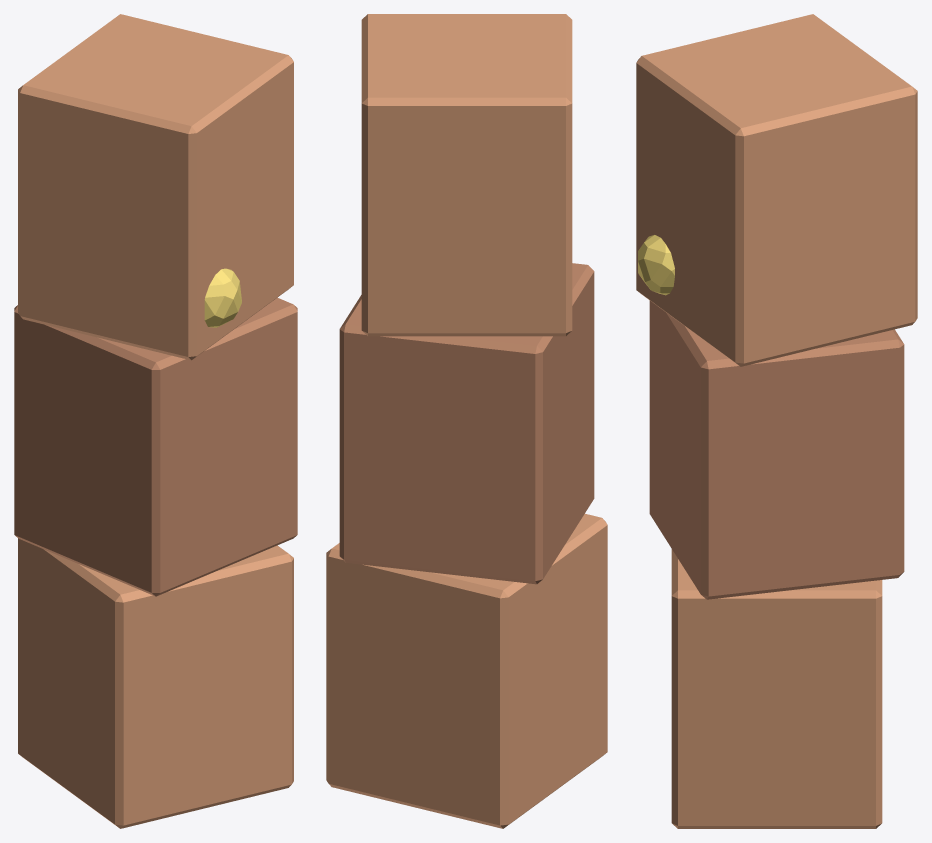
3 views of the same model, side by side, from view 1: azimuth 30°, elevation 25°; view 2: azimuth 150°, elevation 25°; view 3: azimuth 270°, elevation 25° (orthographic).
Parts seen in each view (by area): view 1: Totem; view 2: Totem; view 3: Totem.
Part boxes in pixels (x1,y1,x2,y2): Totem: [14, 14, 297, 828]; Totem: [326, 14, 607, 828]; Totem: [636, 14, 917, 828].
Size of the model in its own units: 0.5344 by 1.5 by 0.5344.
